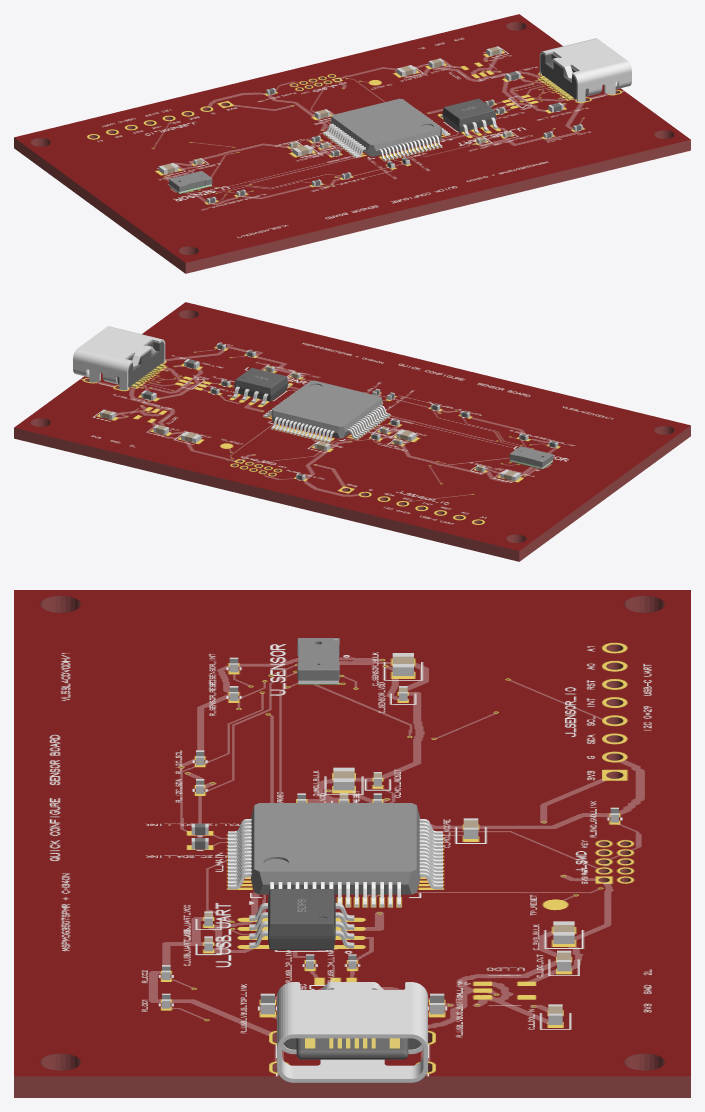
3 views of the same model, one above another, from view 1: azimuth 30°, elevation 25°; view 2: azimuth 150°, elevation 25°; view 3: azimuth 270°, elevation 25° (orthographic). The views are drawn at different scales.
Parts seen in each view (by area): view 1: Box0, U_MAIN, J_USB, U_USB_UART, U_SENSOR; view 2: Box0, U_MAIN, J_USB, U_USB_UART, U_SENSOR; view 3: Box0, U_MAIN, J_USB, U_USB_UART, U_SENSOR.
Boxes of the visible parts, left/top/right/bottom form: Box0: left=14, top=14, right=690, bottom=273; U_MAIN: left=322, top=98, right=450, bottom=161; J_USB: left=539, top=38, right=631, bottom=102; U_USB_UART: left=440, top=98, right=498, bottom=135; U_SENSOR: left=169, top=171, right=212, bottom=193; Box0: left=14, top=302, right=690, bottom=561; U_MAIN: left=263, top=380, right=390, bottom=442; J_USB: left=73, top=326, right=165, bottom=390; U_USB_UART: left=232, top=368, right=290, bottom=404; U_SENSOR: left=509, top=446, right=553, bottom=469; Box0: left=14, top=590, right=690, bottom=1097; U_MAIN: left=228, top=803, right=442, bottom=907; J_USB: left=277, top=982, right=427, bottom=1082; U_USB_UART: left=249, top=889, right=354, bottom=949; U_SENSOR: left=297, top=638, right=339, bottom=684.
Bounding box in the file's own units: 69.04 × 4.65 × 40.
Materials: 23 (2 with a texture image).
